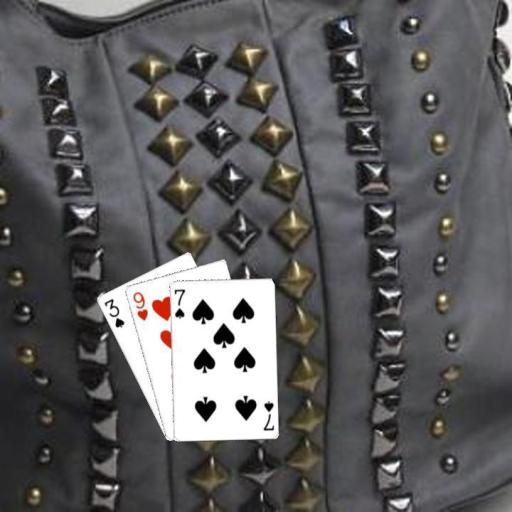3S: (101, 296, 126, 329)
7S: (171, 286, 186, 320), (260, 398, 275, 432)
9H: (130, 288, 150, 322)
